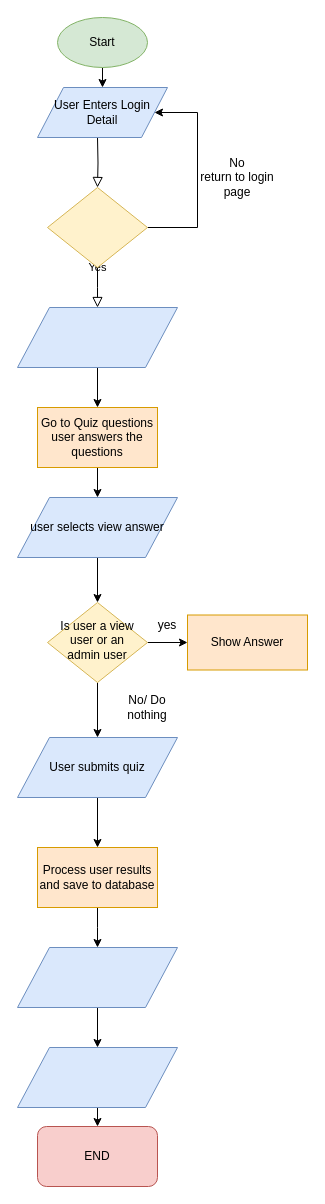
The diagram is 325 pixels wide and 1204 high, and some of its shapes have lost their labels. The centre of each missing label's shape, as x and y in pixels:
"Is it an existing User" belongs at pixel 97 227.
"Show user all quizzes and user select a quiz" belongs at pixel 97 337.
"User Logs out" belongs at pixel 97 1077.
"User view mark to see results of the quiz" belongs at pixel 97 977.
